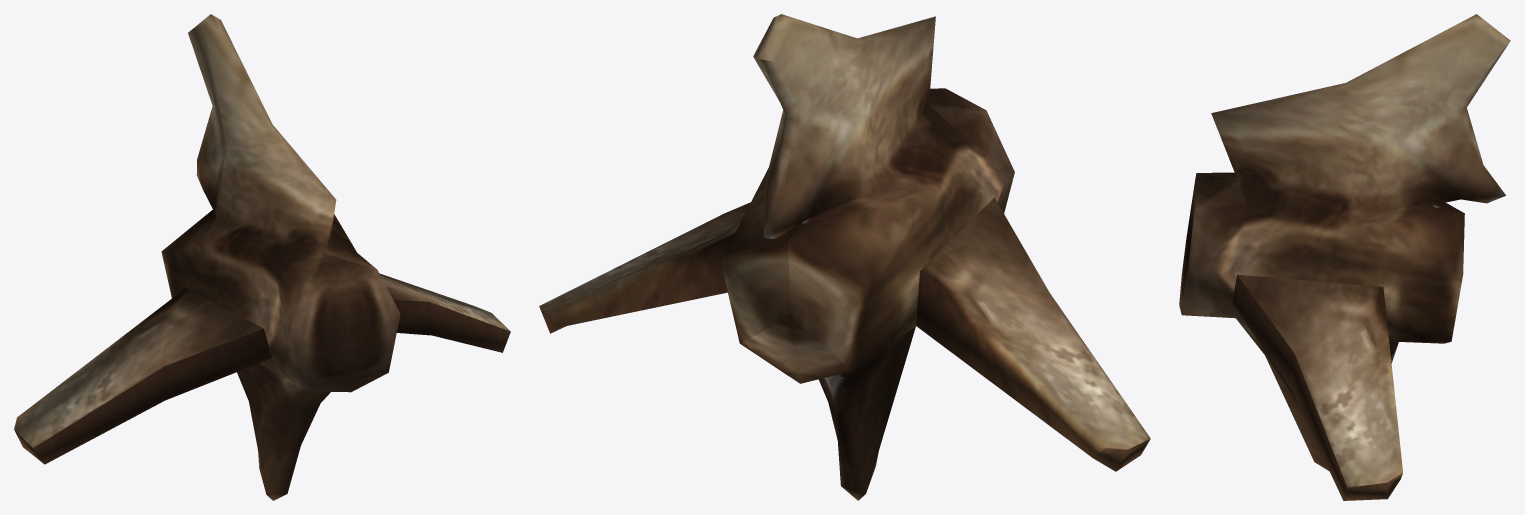
Rendered from D_longgujia.fbx.
The picture shows the model from 3 angles, left to right: view 1: azimuth 30°, elevation 25°; view 2: azimuth 150°, elevation 25°; view 3: azimuth 270°, elevation 25°; orthographic projection. The views are drawn at different scales.
Parts seen in each view (by area): view 1: D_longgujia; view 2: D_longgujia; view 3: D_longgujia.
Boxes of the visible parts, x1,y1,x2,y2 form: D_longgujia: (14,14,510,500); D_longgujia: (539,14,1150,500); D_longgujia: (1179,14,1510,500).
Bounding box in the file's own units: 151 × 133 × 85.63.
